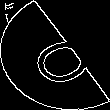O_NE: (15, 23, 95, 87)
